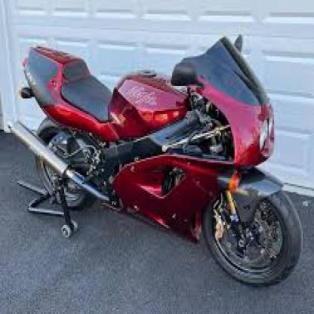Motocicleta: (8, 25, 304, 293)
